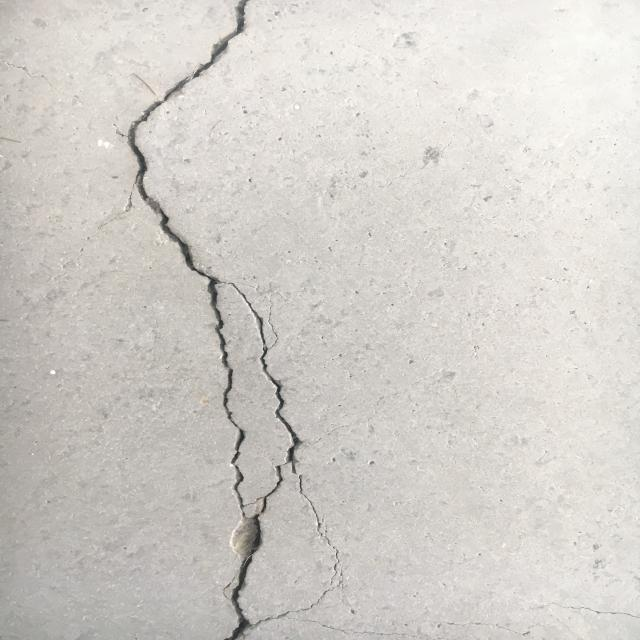SurfaceCrack: (94, 1, 365, 639)
